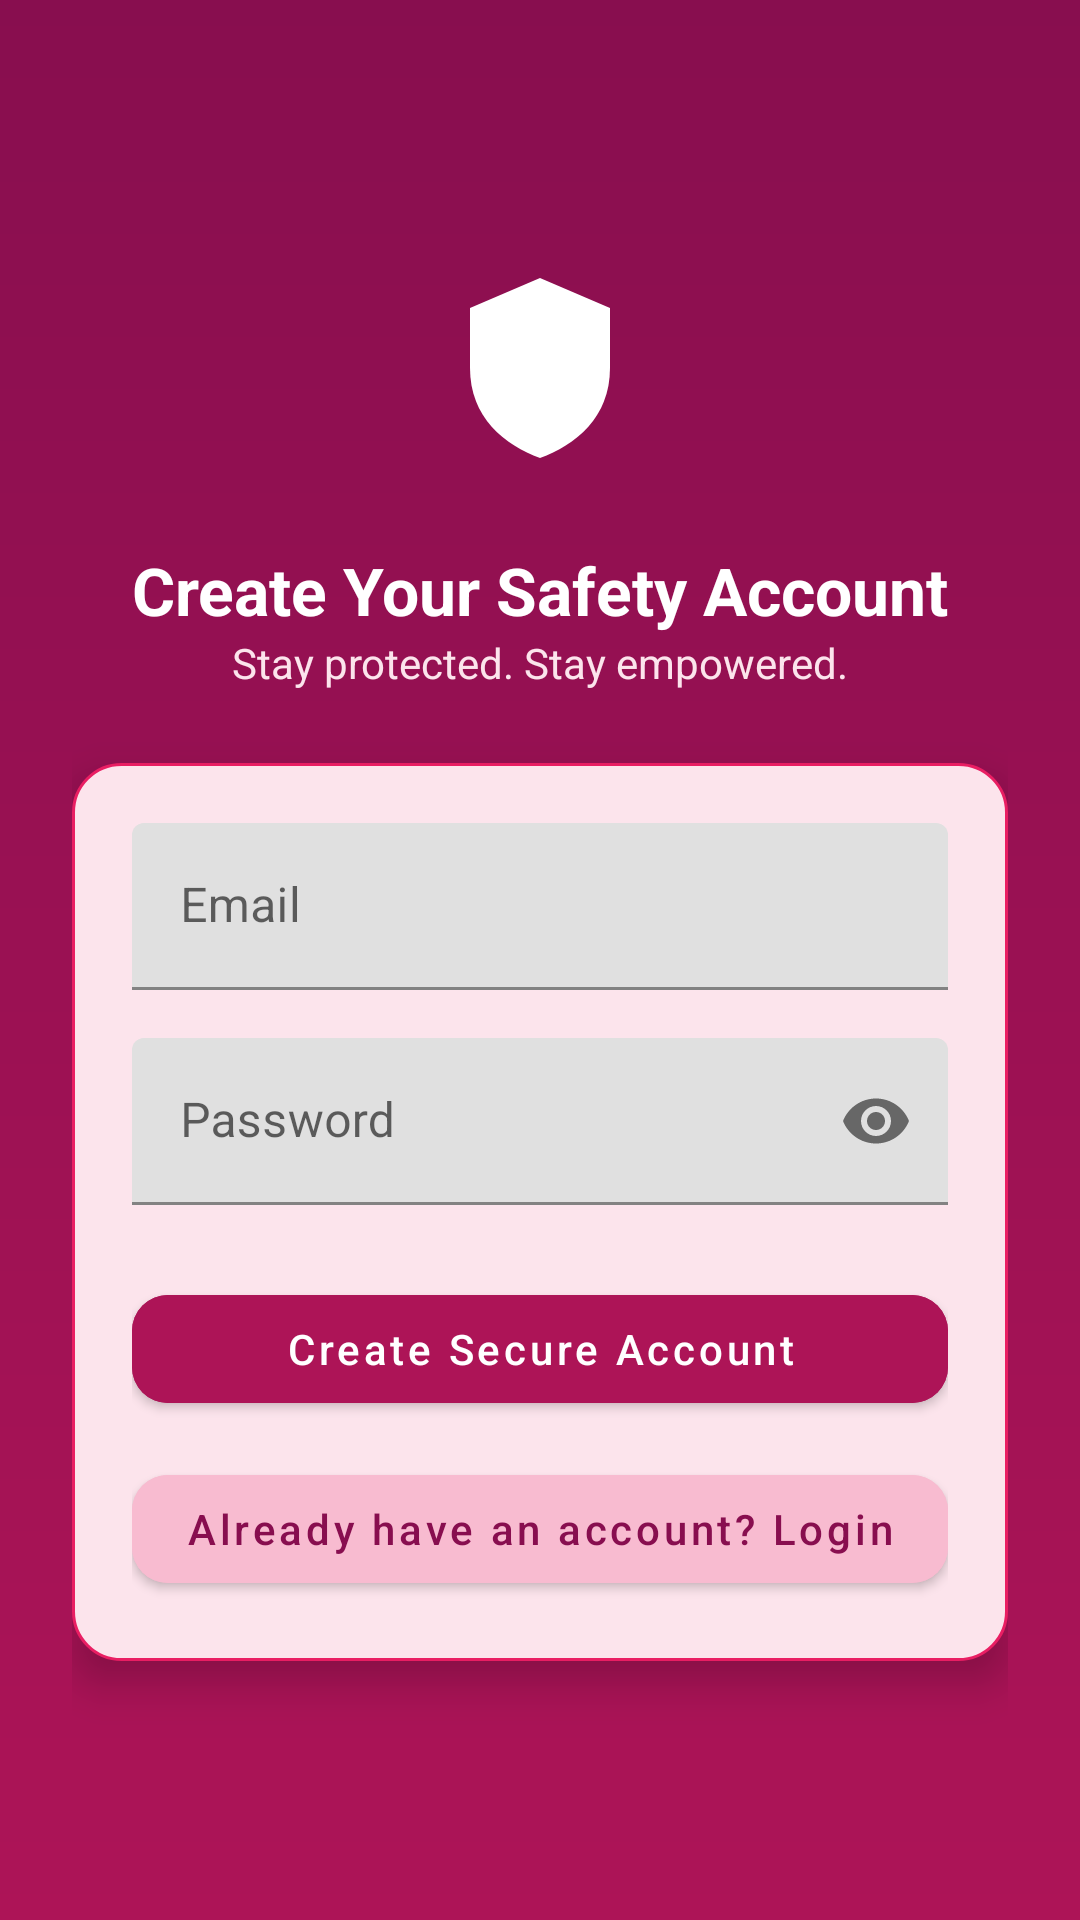

Point at icon controls on the screen. Image size 1080*1920, points as point (x, y).
Security Icon: point (540, 368)
